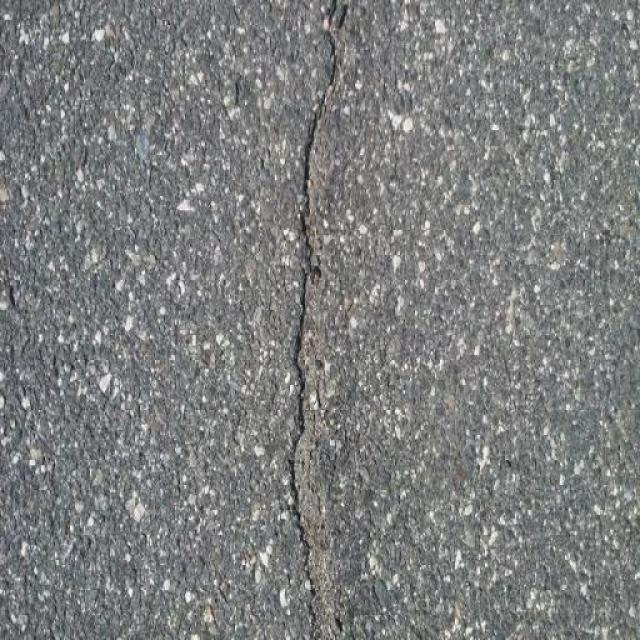Crack: (277, 0, 355, 640)
